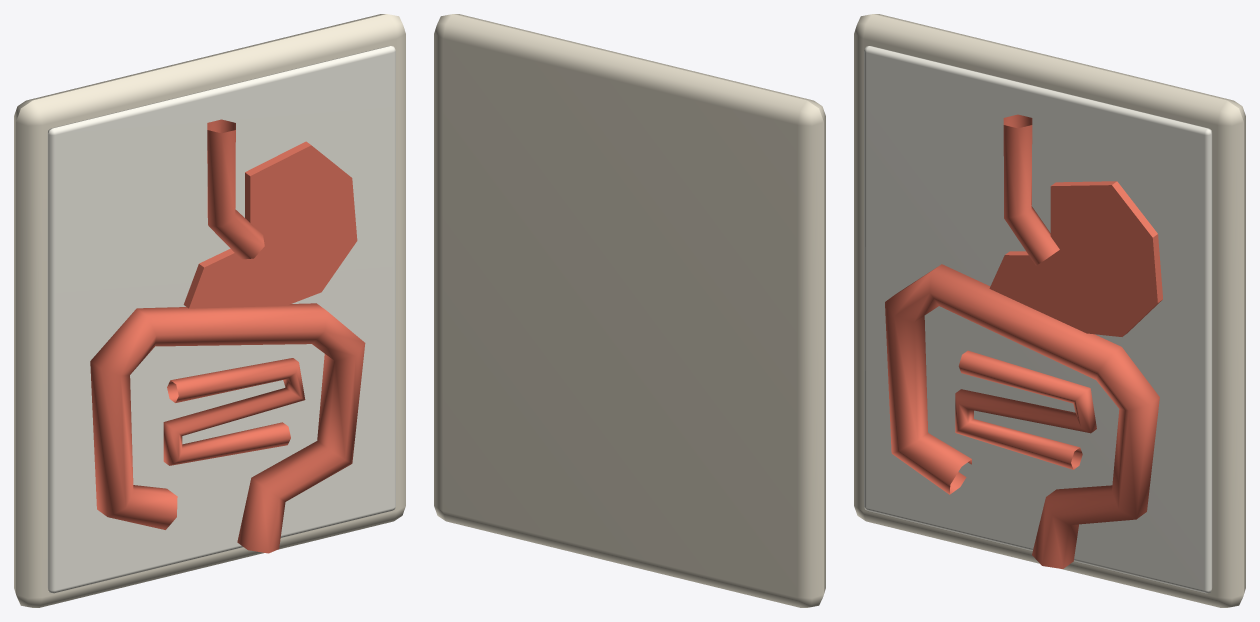
Rendered from Clinical_Art_Digestive.glb.
3 views of the same model, side by side, from view 1: azimuth 30°, elevation 25°; view 2: azimuth 150°, elevation 25°; view 3: azimuth 330°, elevation 25° (orthographic).
Visible parts, largest first — view 1: Clinical_Art_Digestive_paper, Clinical_Art_Digestive_coral, Clinical_Art_Digestive_cream; view 2: Clinical_Art_Digestive_cream; view 3: Clinical_Art_Digestive_paper, Clinical_Art_Digestive_coral, Clinical_Art_Digestive_cream.
Boxes of the visible parts, x1=… form: Clinical_Art_Digestive_paper: x1=47, y1=46, x2=395, y2=593; Clinical_Art_Digestive_coral: x1=90, y1=119, x2=365, y2=553; Clinical_Art_Digestive_cream: x1=14, y1=14, x2=405, y2=607; Clinical_Art_Digestive_cream: x1=434, y1=14, x2=825, y2=607; Clinical_Art_Digestive_paper: x1=864, y1=46, x2=1212, y2=593; Clinical_Art_Digestive_coral: x1=885, y1=114, x2=1162, y2=568; Clinical_Art_Digestive_cream: x1=854, y1=14, x2=1245, y2=607.
Size of the model in its own units: 0.76 by 0.95 by 0.146.
